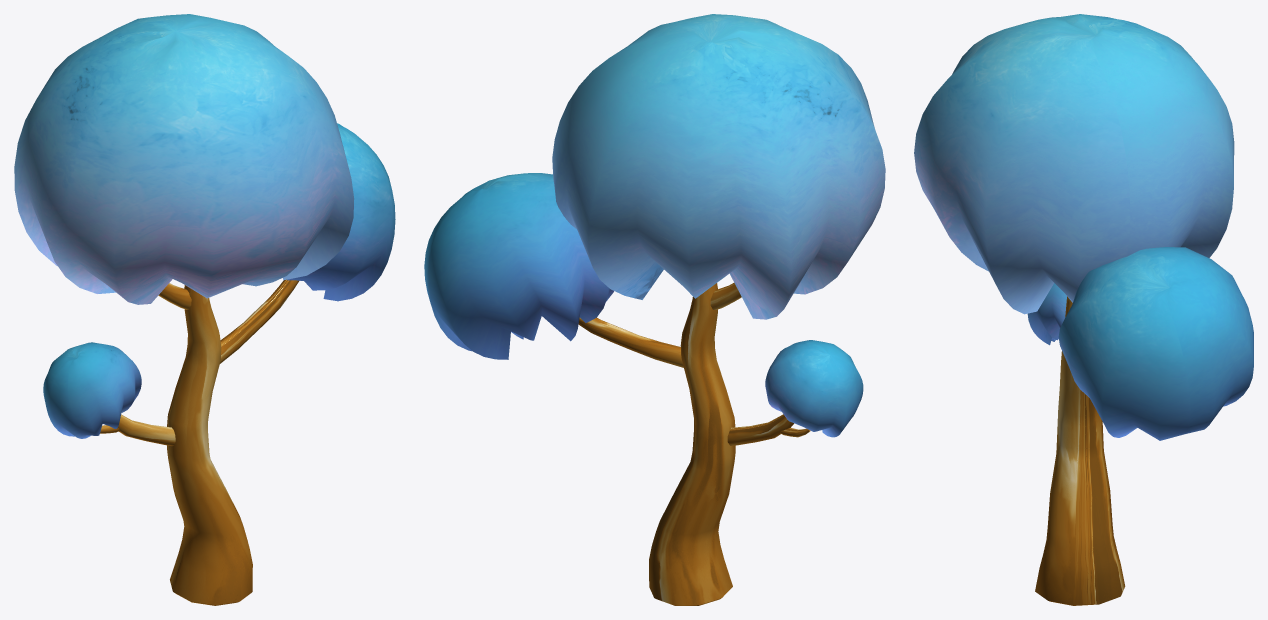
The model's file is gym_tree02_bl.fbx.
3 renders of one model, left to right at view 1: azimuth 30°, elevation 25°; view 2: azimuth 150°, elevation 25°; view 3: azimuth 270°, elevation 25°, orthographic. The views are drawn at different scales.
Visible parts, largest first — view 1: gym_tree02; view 2: gym_tree02; view 3: gym_tree02.
Boxes of the visible parts, bbox=[...] form: gym_tree02: bbox=[14, 14, 395, 605]; gym_tree02: bbox=[424, 14, 885, 605]; gym_tree02: bbox=[914, 14, 1253, 605].
Size of the model in its own units: 10.13 by 14.34 by 8.07.
